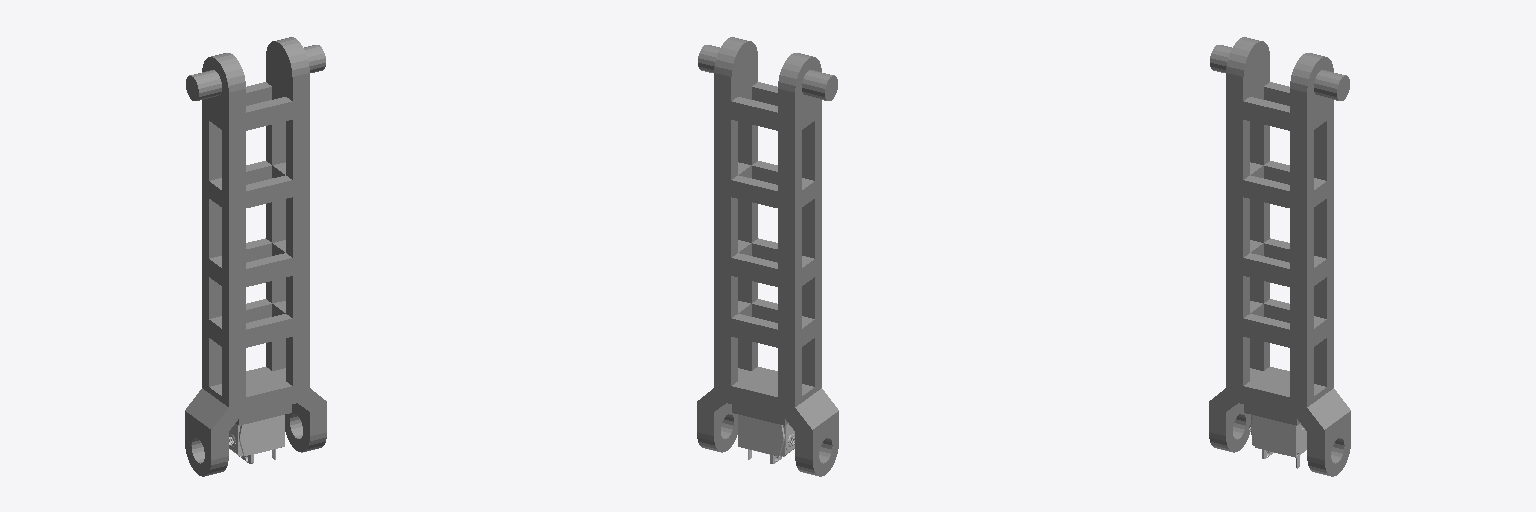
3 views of the same model, side by side, from view 1: azimuth 30°, elevation 25°; view 2: azimuth 150°, elevation 25°; view 3: azimuth 330°, elevation 25° (orthographic).
Parts seen in each view (by area): view 1: b1 v6, Body4, Body6; view 2: b1 v6, Body4, Body5; view 3: b1 v6, Body4, Body6.
Boxes of the visible parts, <box> form: b1 v6: <box>185,37,326,476</box>; Body4: <box>229,415,284,463</box>; Body6: <box>254,416,277,453</box>; b1 v6: <box>697,37,838,476</box>; Body4: <box>738,414,794,463</box>; Body5: <box>745,416,769,453</box>; b1 v6: <box>1209,37,1350,476</box>; Body4: <box>1249,415,1306,458</box>; Body6: <box>1264,418,1288,455</box>.
Size of the model in its own units: 0.11 by 0.3421 by 0.04.